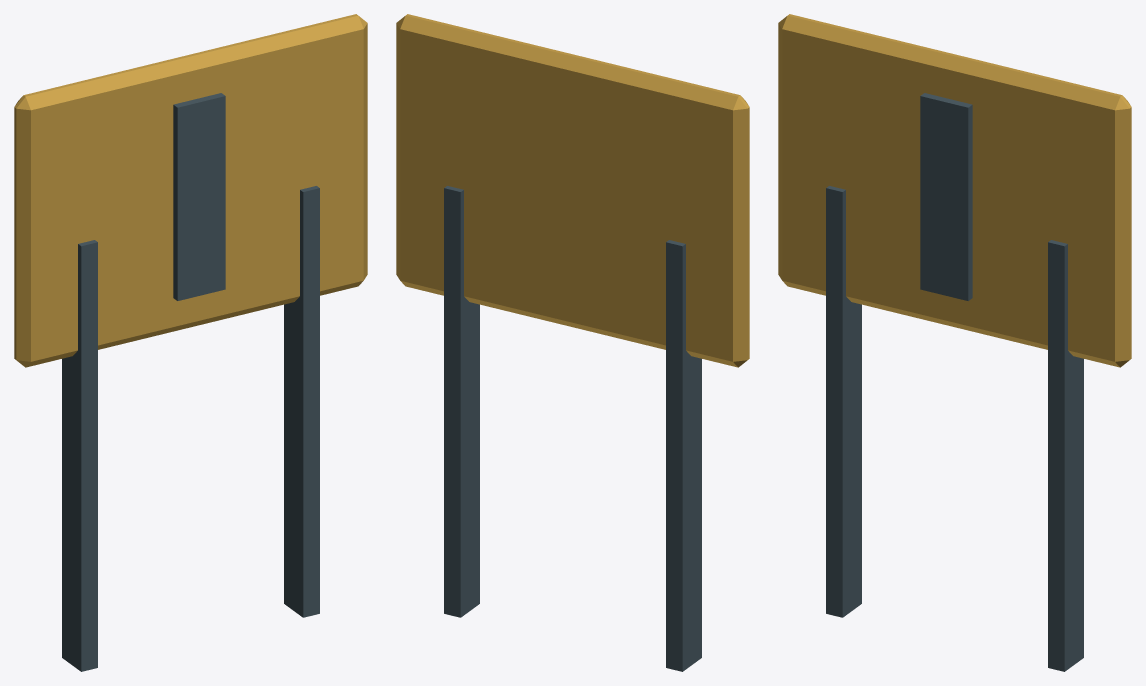
The model's file is roadworks_sign.glb.
The picture shows the model from 3 angles, left to right: view 1: azimuth 30°, elevation 25°; view 2: azimuth 150°, elevation 25°; view 3: azimuth 330°, elevation 25°; orthographic projection.
Visible parts, largest first — view 1: roadworks_sign; view 2: roadworks_sign; view 3: roadworks_sign.
Part boxes in pixels (box(x1,y1,x2,y2)): roadworks_sign: box(14, 14, 367, 671); roadworks_sign: box(396, 14, 749, 671); roadworks_sign: box(778, 14, 1131, 671).
Size of the model in its own units: 0.95 by 1.5 by 0.095.
